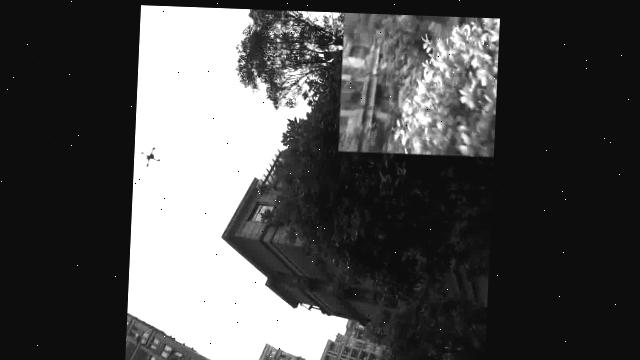drone: (140, 146, 166, 171)
